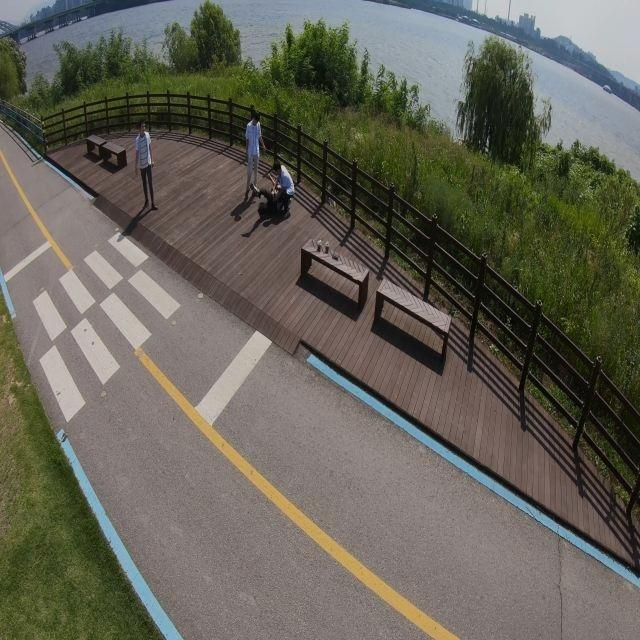fight: (249, 156, 296, 218)
non-fight: (132, 118, 161, 212), (244, 108, 264, 198)
